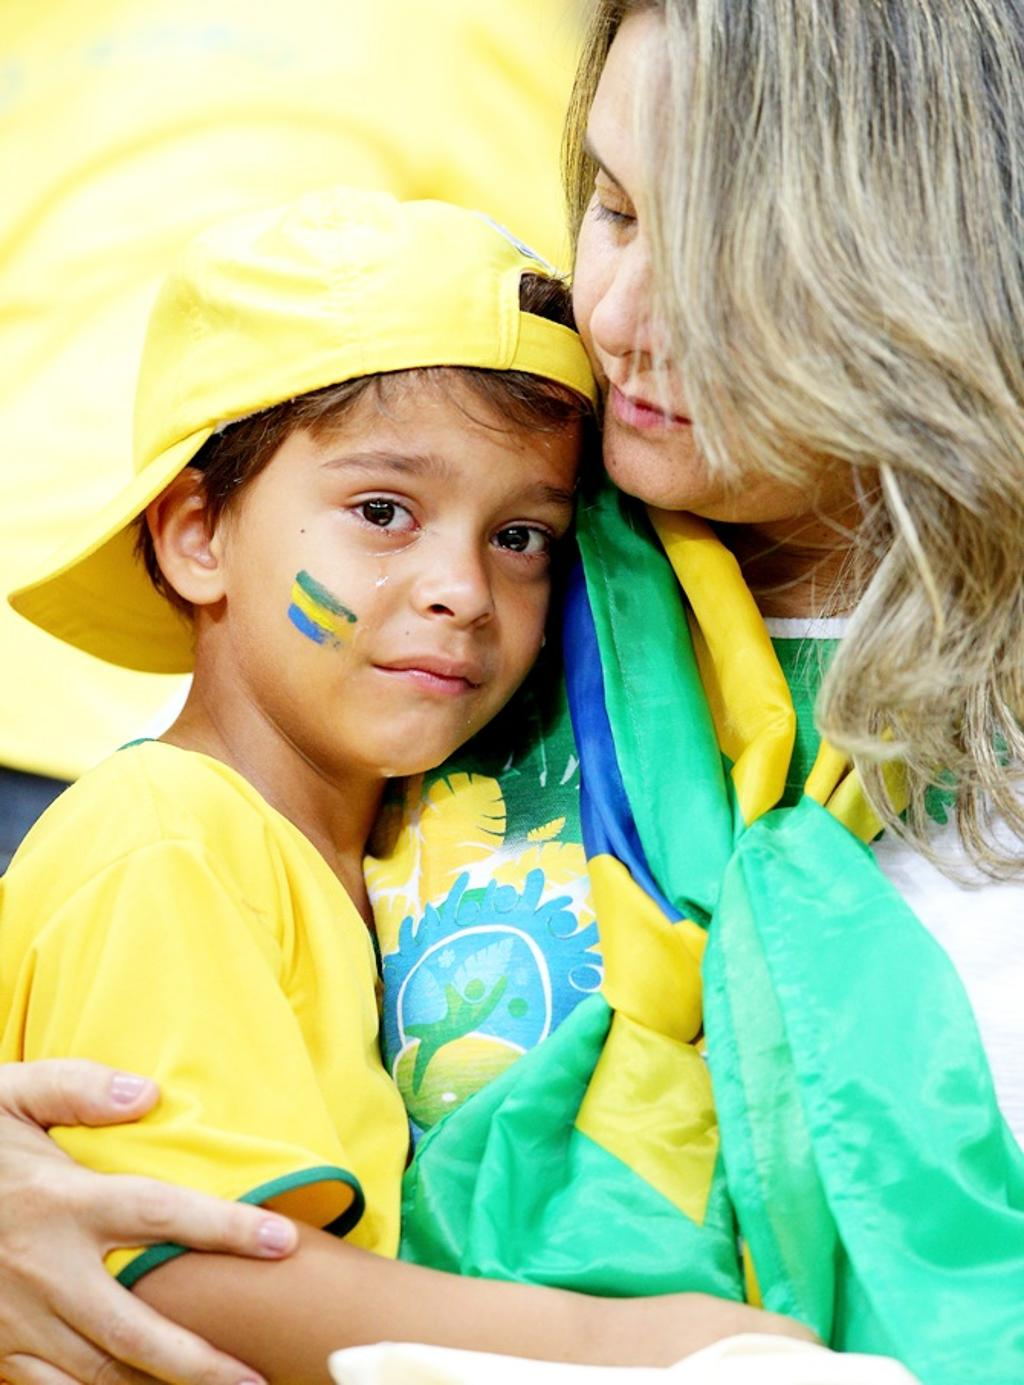face: (575, 32, 929, 505), (232, 392, 562, 776)
